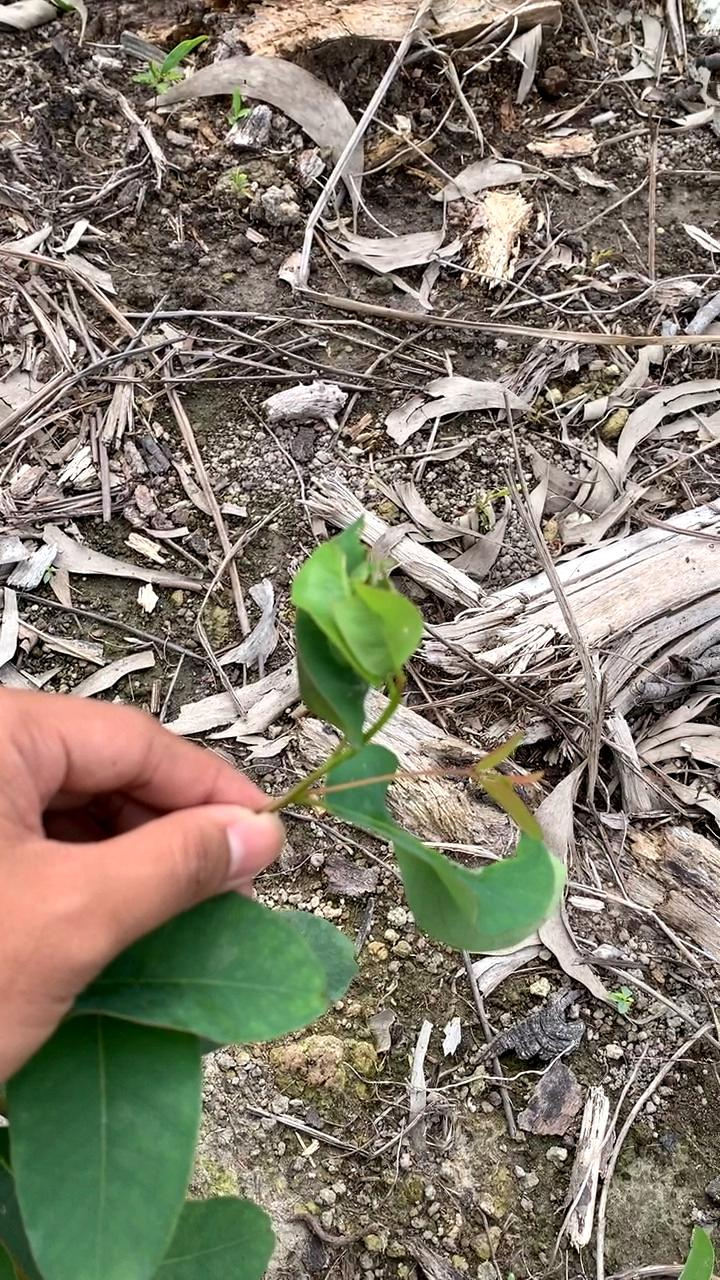Leaf Roller - Leaf: (286, 526, 428, 750)
